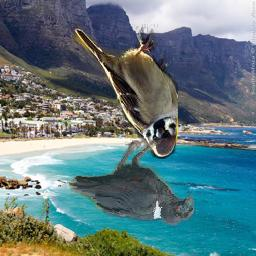Crow: (68, 138, 195, 226)
Sparrow: (74, 25, 179, 160)
